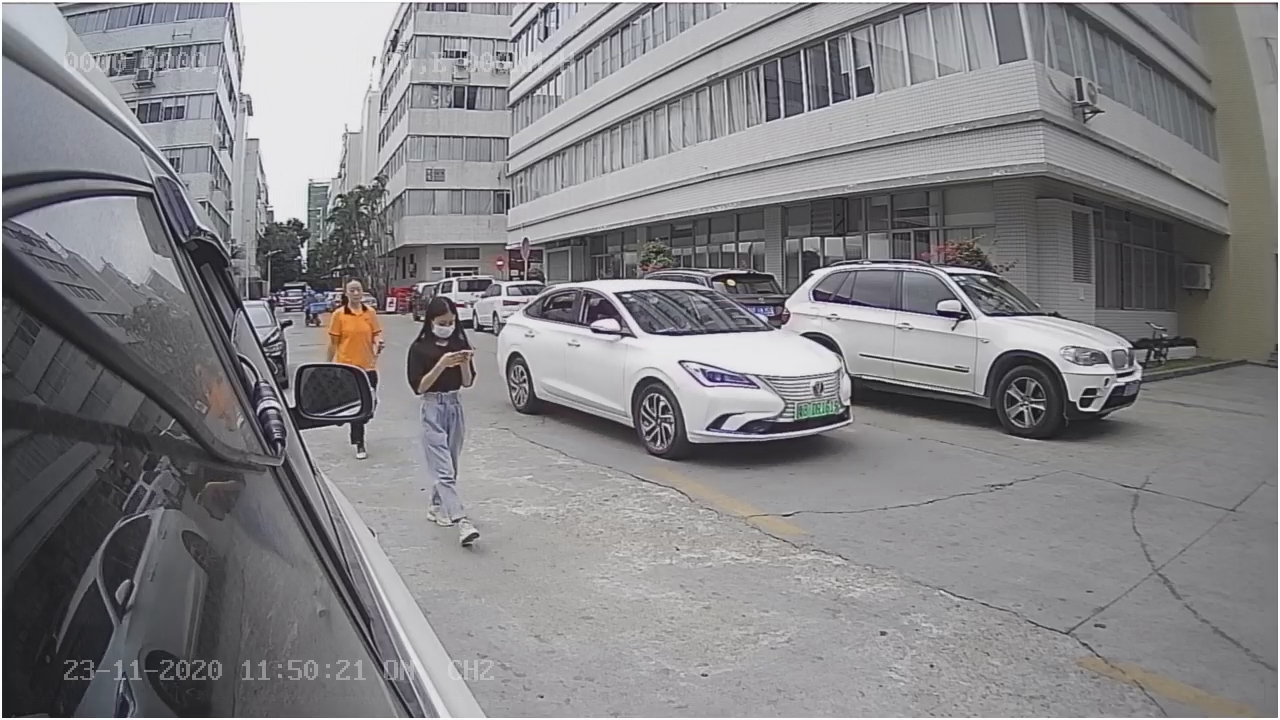person: (400, 296, 492, 547)
